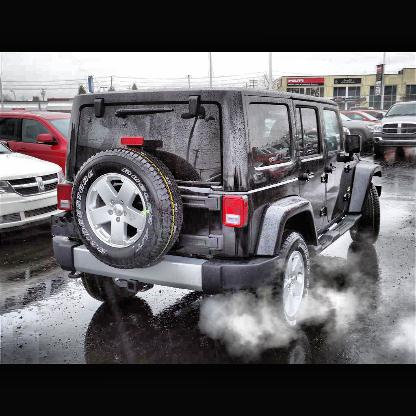Jeep Wrangler SUV 2012: (54, 89, 382, 331)
